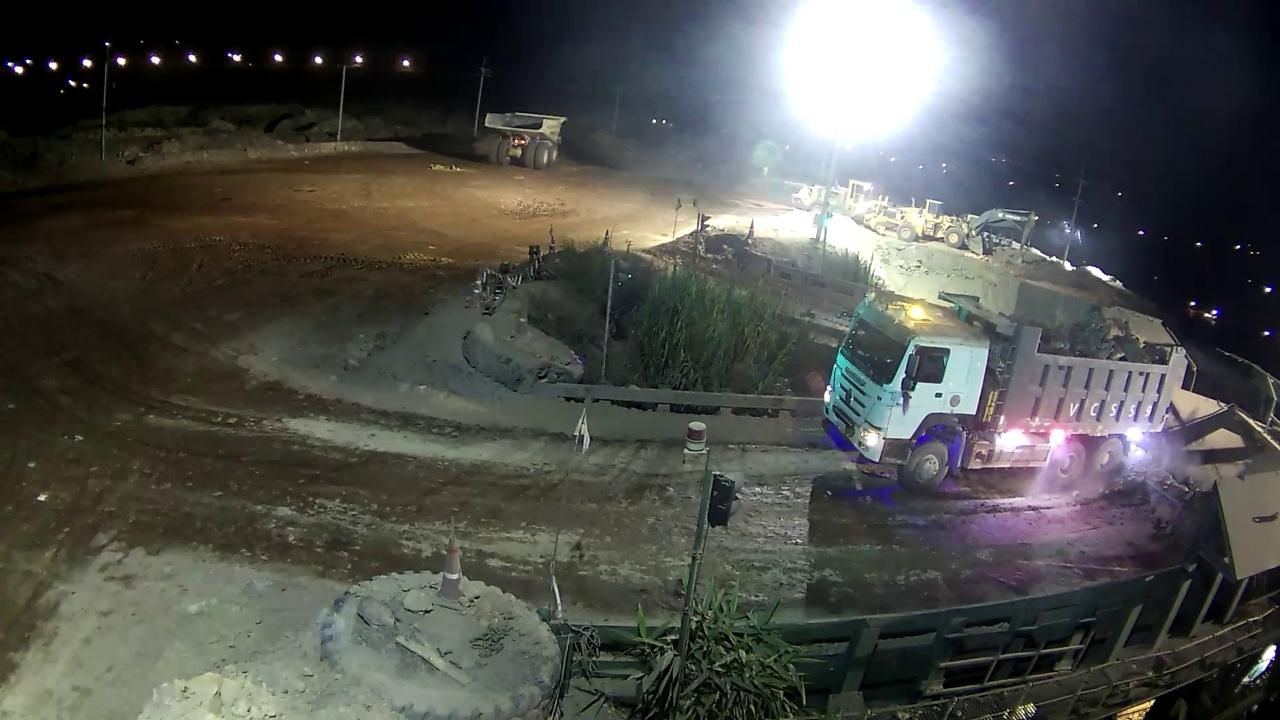mining_truck: (483, 97, 574, 176)
